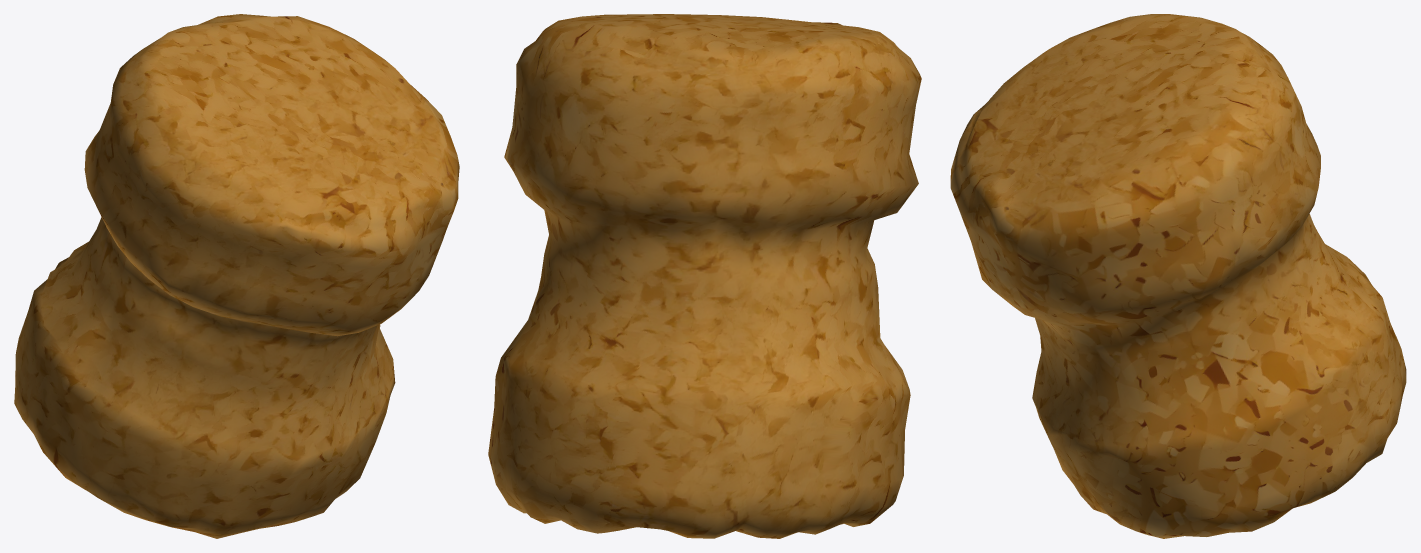
File: disk_cork.glb
The picture shows the model from 3 angles, left to right: view 1: azimuth 30°, elevation 25°; view 2: azimuth 150°, elevation 25°; view 3: azimuth 270°, elevation 25°; orthographic projection. The views are drawn at different scales.
Parts seen in each view (by area): view 1: tripo_node_0cbd89e3-97ca-4e48-b4ca-5c323bf3df42; view 2: tripo_node_0cbd89e3-97ca-4e48-b4ca-5c323bf3df42; view 3: tripo_node_0cbd89e3-97ca-4e48-b4ca-5c323bf3df42.
Boxes of the visible parts, x1,y1,x2,y2 form: tripo_node_0cbd89e3-97ca-4e48-b4ca-5c323bf3df42: [14, 14, 459, 538]; tripo_node_0cbd89e3-97ca-4e48-b4ca-5c323bf3df42: [488, 14, 921, 538]; tripo_node_0cbd89e3-97ca-4e48-b4ca-5c323bf3df42: [950, 14, 1406, 538].
Size of the model in its own units: 0.813 by 0.9995 by 0.9233.
Materials: 1 (1 with a texture image).
